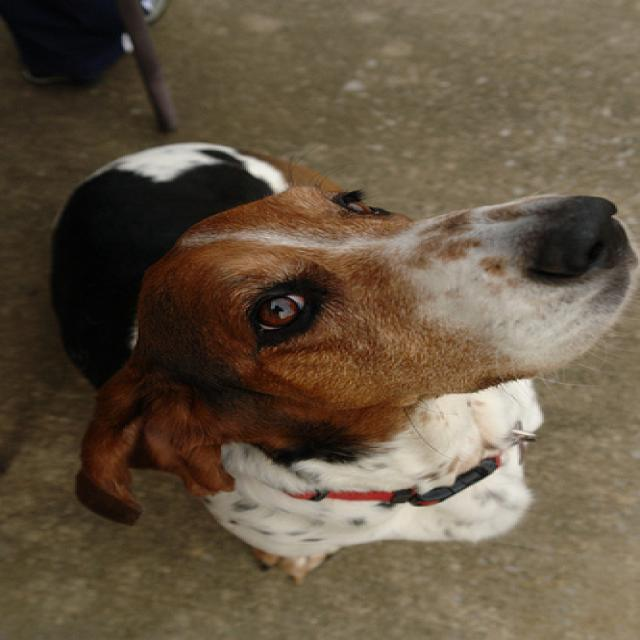dog-basset_hound: (40, 136, 636, 584)
